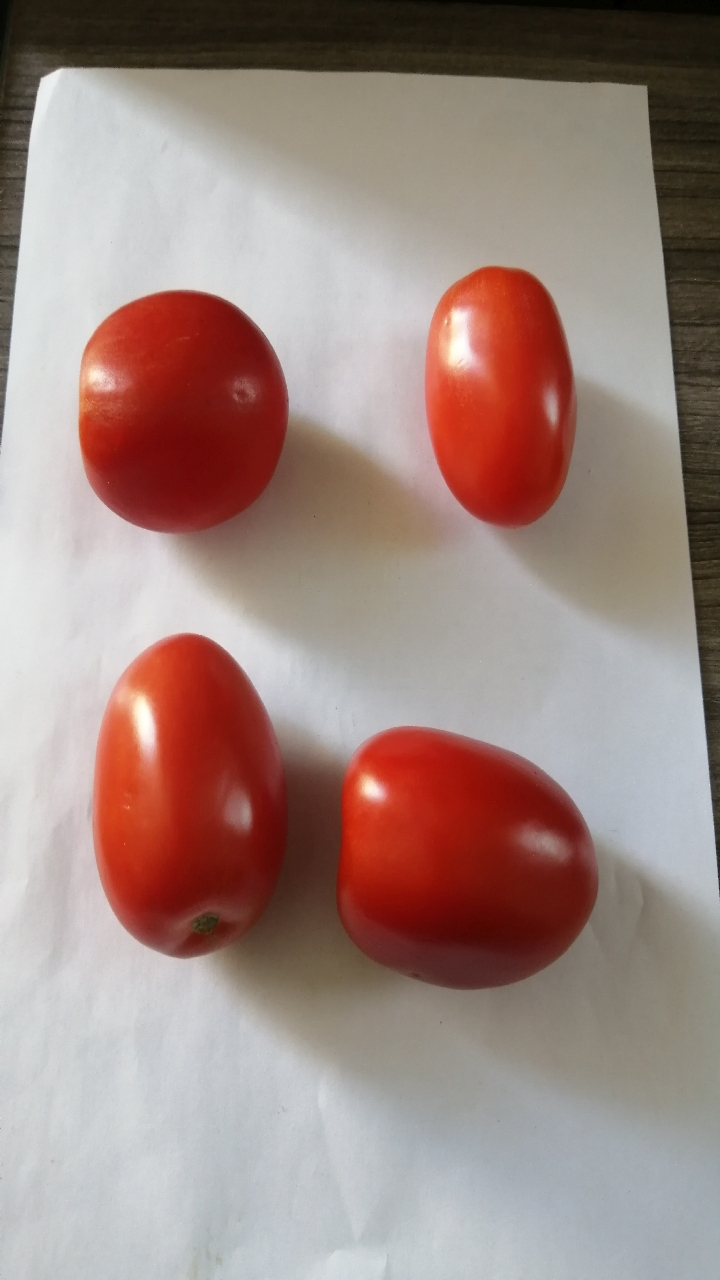tomateRojo: (64, 612, 300, 982), (329, 705, 608, 1009), (40, 275, 312, 546), (401, 254, 611, 542)
